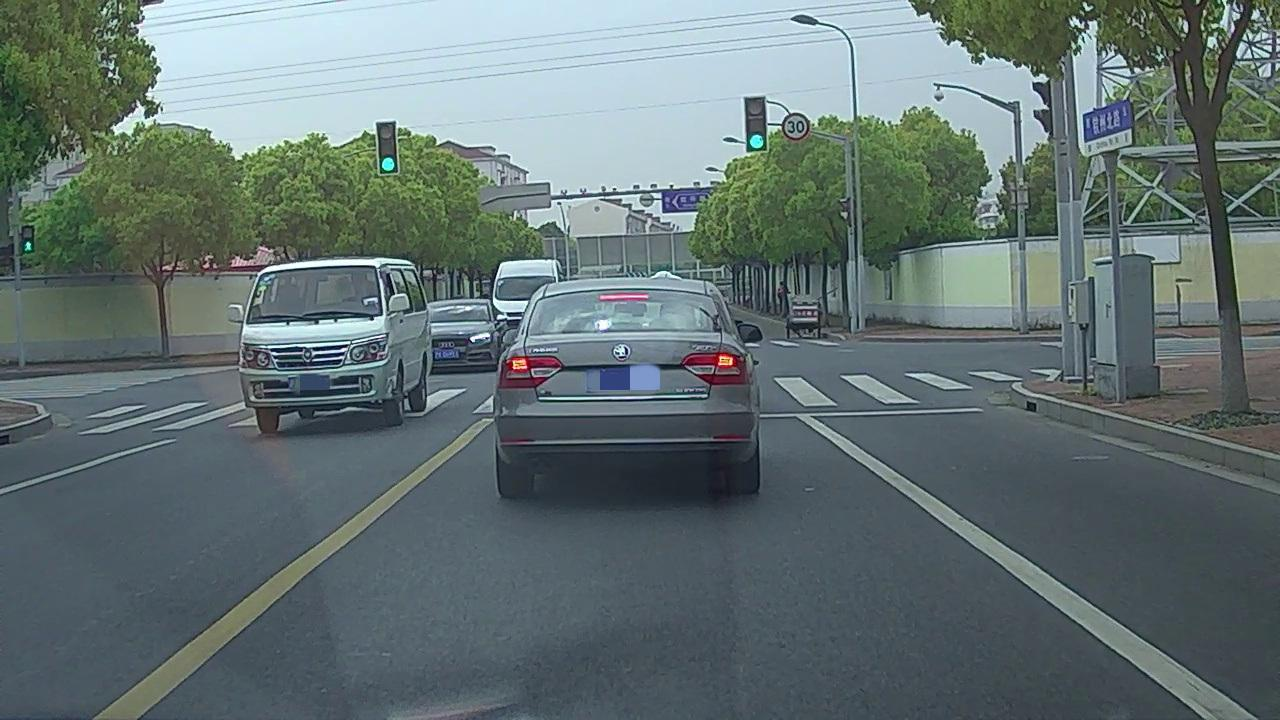traffic_light: (746, 98, 768, 151), (378, 123, 397, 171)
